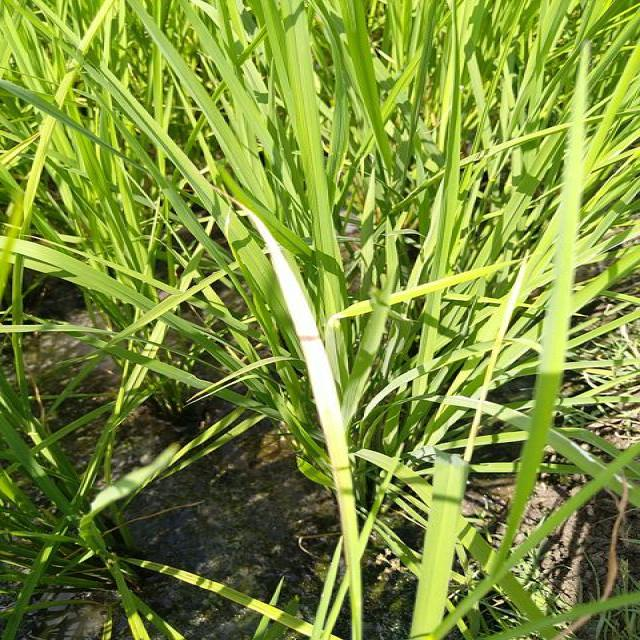Leaf Blight: (219, 191, 359, 563)
